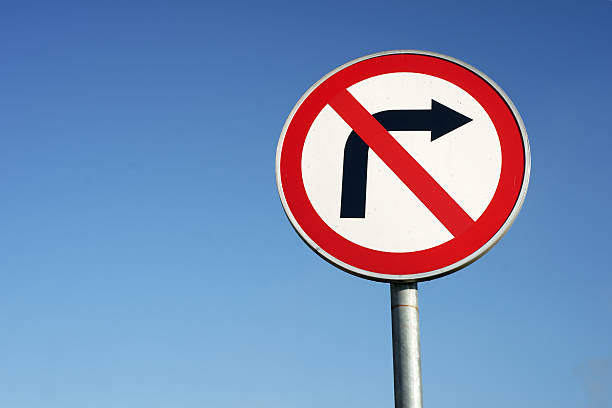saga_donulmez: (278, 52, 532, 274)
